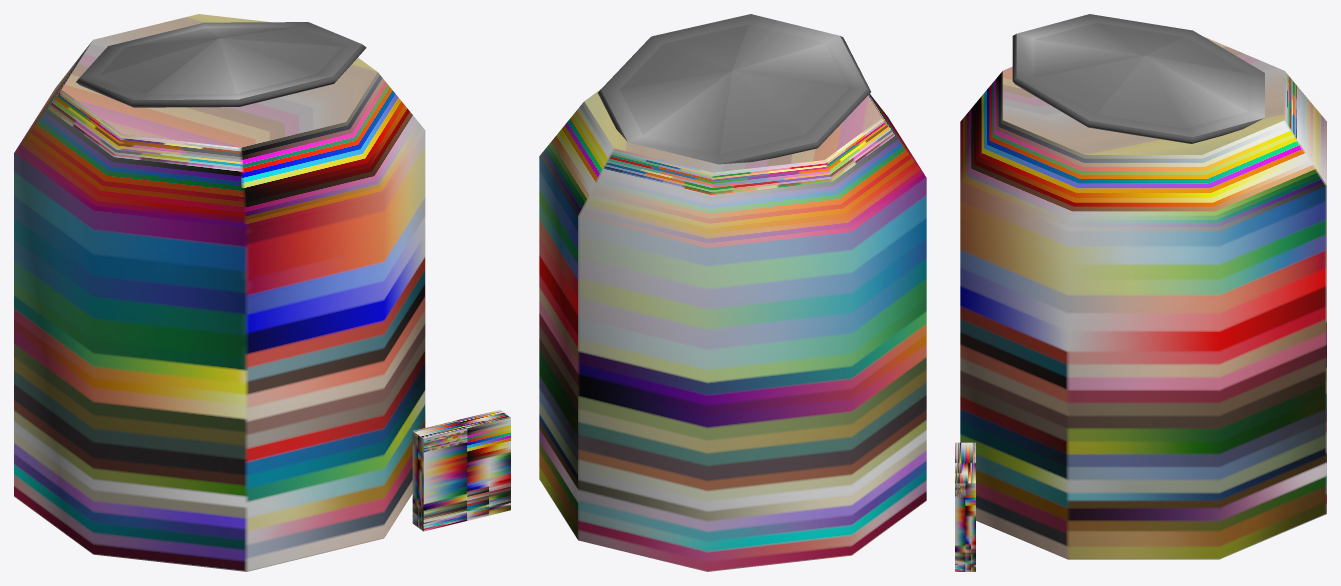
File: CR_caf_Pot_001_Collider.FBX
3 renders of one model, left to right at view 1: azimuth 30°, elevation 25°; view 2: azimuth 150°, elevation 25°; view 3: azimuth 270°, elevation 25°, orthographic. The views are drawn at different scales.
Parts seen in each view (by area): view 1: CR_caf_Pot_001_Collider; view 2: CR_caf_Pot_001_Collider; view 3: CR_caf_Pot_001_Collider.
Part boxes in pixels (bbox=[...]): CR_caf_Pot_001_Collider: bbox=[14, 14, 510, 571]; CR_caf_Pot_001_Collider: bbox=[539, 14, 926, 571]; CR_caf_Pot_001_Collider: bbox=[955, 14, 1326, 571].
Size of the model in its own units: 27.46 by 32.64 by 25.8.
